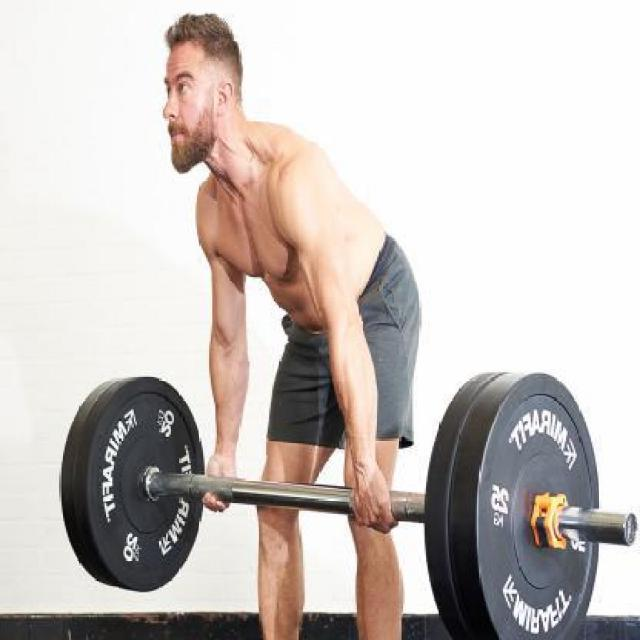Barbell: (614, 500, 638, 554)
